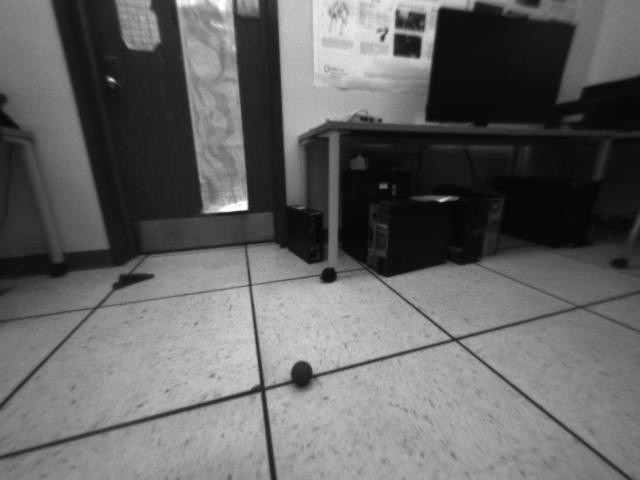dogtoy: (283, 353, 323, 395)
